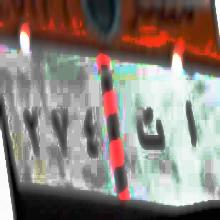2: (24, 102, 43, 156)
4: (82, 105, 103, 166)
7: (49, 104, 71, 154)
alif: (182, 98, 205, 160)
taa: (132, 93, 165, 165)
